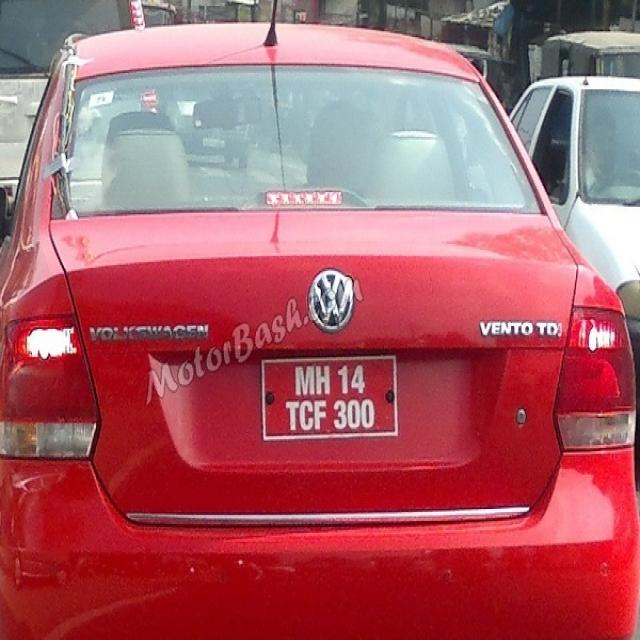number_plate: (259, 356, 393, 434)
